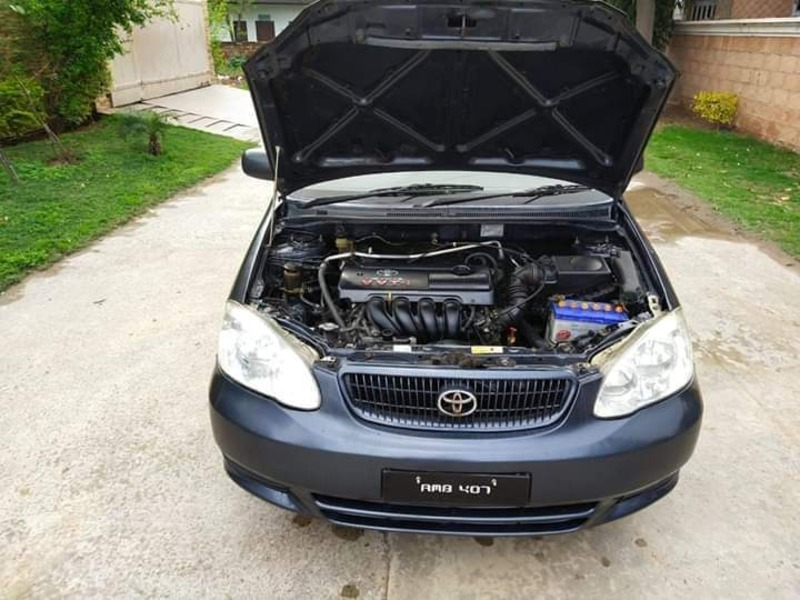License Plate: (374, 462, 539, 515)
